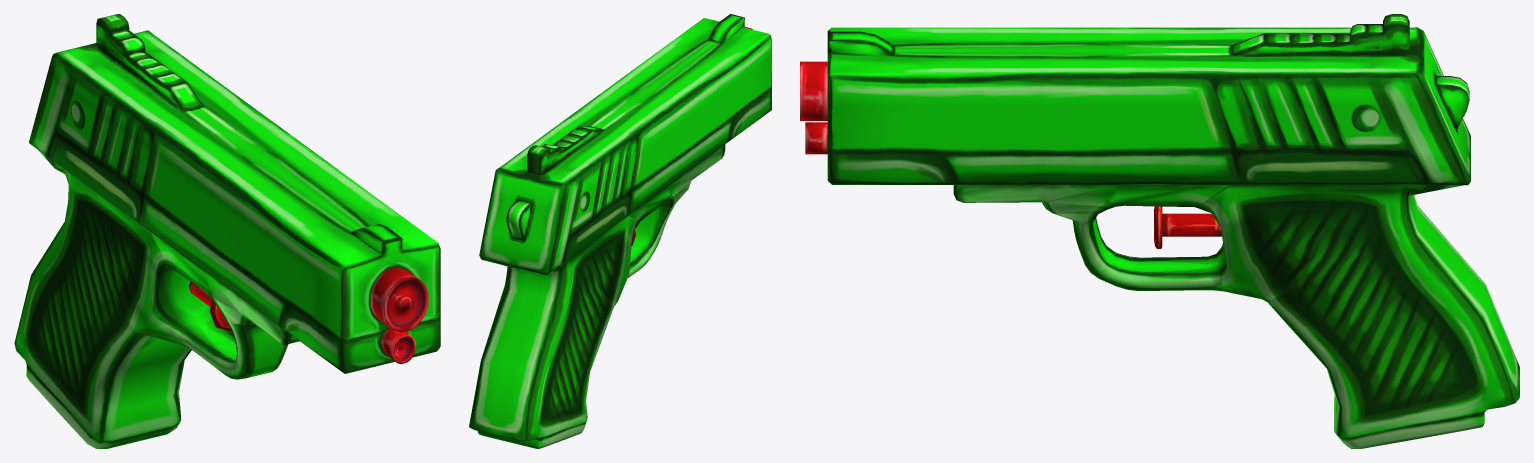
Rendered from FGJ25_Bubblegun.fbx.
3 views of the same model, side by side, from view 1: azimuth 30°, elevation 25°; view 2: azimuth 150°, elevation 25°; view 3: azimuth 270°, elevation 25° (orthographic). The views are drawn at different scales.
Parts seen in each view (by area): view 1: gun, Cylinder.002; view 2: gun; view 3: gun, Cylinder.002.
Boxes of the visible parts, bbox=[...] form: gun: bbox=[14, 14, 440, 448]; Cylinder.002: bbox=[189, 268, 428, 364]; gun: bbox=[469, 14, 771, 448]; gun: bbox=[827, 14, 1519, 448]; Cylinder.002: bbox=[800, 61, 1221, 248].
Size of the model in its own units: 13.19 by 51.41 by 81.34.
2 materials, 2 textured.
